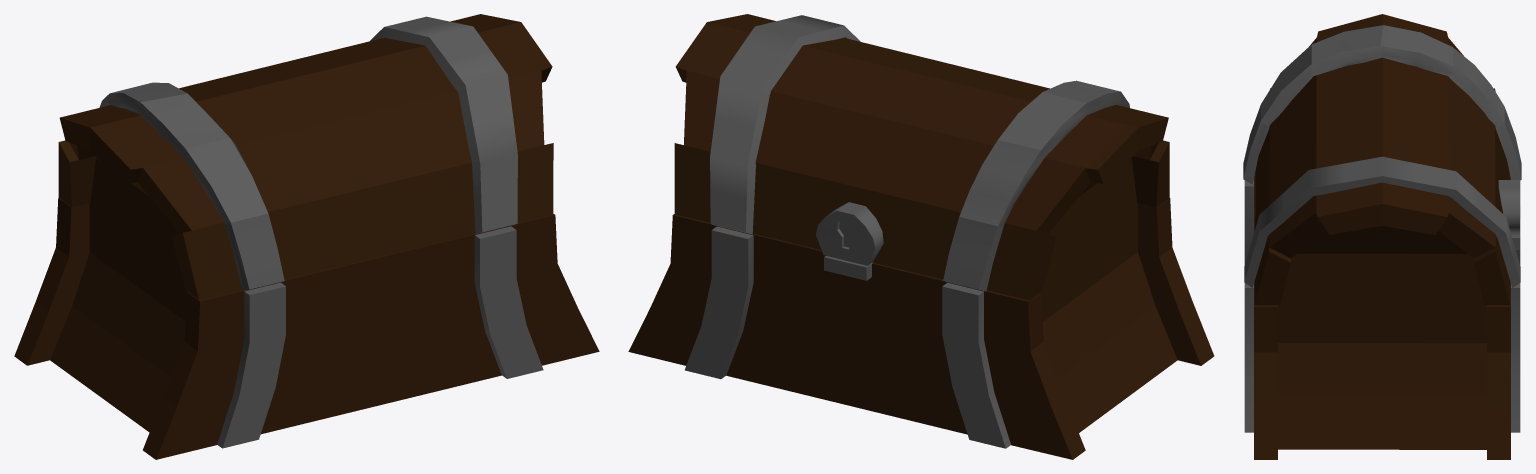
The model's file is HitChest_LowPoly.fbx.
3 views of the same model, side by side, from view 1: azimuth 30°, elevation 25°; view 2: azimuth 150°, elevation 25°; view 3: azimuth 270°, elevation 25° (orthographic). The views are drawn at different scales.
Visible parts, largest first — view 1: SM_ChestTop_low, SM_ChestBack_low, SM_ChestSideBottom_R_low, SM_MetalBotomTop_R_low, SM_MetalBotomTop_L_low, SM_MetalBotomBack_R_low, SM_MetalBotomBack_L_low, SM_ChestFront_low, SM_ChestSideTop_R_low; view 2: SM_ChestTop_low, SM_ChestFront_low, SM_ChestSideBottom_R_low, SM_MetalBotomTop_R_low, SM_MetalBotomTop_L_low, SM_MetalBotomFront_R_low, SM_MetalBotomFront_L_low, SM_ChestBack_low, SM_ChestSideTop_R_low, SM_LockTop_low, SM_LockBottom_low; view 3: SM_ChestTop_low, SM_ChestSideBottom_L_low, SM_ChestSideTop_L_low, SM_MetalBotomTop_R_low, SM_MetalBotomTop_L_low, SM_ChestBack_low, SM_ChestFront_low, SM_MetalBotomBack_L_low, SM_MetalBotomFront_L_low, SM_LockTop_low, SM_MetalBotomBack_R_low.
Boxes of the visible parts, x1=… form: SM_ChestTop_low: x1=58, y1=14, x2=553, y2=300; SM_ChestBack_low: x1=143, y1=214, x2=599, y2=459; SM_ChestSideBottom_R_low: x1=50, y1=203, x2=186, y2=432; SM_MetalBotomTop_R_low: x1=99, y1=82, x2=284, y2=291; SM_MetalBotomTop_L_low: x1=370, y1=16, x2=517, y2=234; SM_MetalBotomBack_R_low: x1=217, y1=282, x2=285, y2=448; SM_MetalBotomBack_L_low: x1=474, y1=226, x2=543, y2=378; SM_ChestFront_low: x1=14, y1=197, x2=89, y2=365; SM_ChestSideTop_R_low: x1=90, y1=156, x2=179, y2=267; SM_ChestTop_low: x1=674, y1=14, x2=1169, y2=300; SM_ChestFront_low: x1=628, y1=214, x2=1085, y2=459; SM_ChestSideBottom_R_low: x1=1041, y1=203, x2=1177, y2=432; SM_MetalBotomTop_R_low: x1=943, y1=80, x2=1129, y2=291; SM_MetalBotomTop_L_low: x1=710, y1=15, x2=860, y2=234; SM_MetalBotomFront_R_low: x1=942, y1=282, x2=1010, y2=448; SM_MetalBotomFront_L_low: x1=685, y1=226, x2=753, y2=379; SM_ChestBack_low: x1=1138, y1=197, x2=1214, y2=365; SM_ChestSideTop_R_low: x1=1048, y1=157, x2=1136, y2=268; SM_LockTop_low: x1=815, y1=202, x2=883, y2=265; SM_LockBottom_low: x1=824, y1=256, x2=872, y2=280; SM_ChestTop_low: x1=1254, y1=14, x2=1510, y2=305; SM_ChestSideBottom_L_low: x1=1278, y1=298, x2=1486, y2=449; SM_ChestSideTop_L_low: x1=1282, y1=226, x2=1482, y2=298; SM_MetalBotomTop_R_low: x1=1243, y1=25, x2=1521, y2=184; SM_MetalBotomTop_L_low: x1=1244, y1=156, x2=1520, y2=287; SM_ChestBack_low: x1=1254, y1=173, x2=1277, y2=459; SM_ChestFront_low: x1=1487, y1=173, x2=1510, y2=459; SM_MetalBotomBack_L_low: x1=1244, y1=283, x2=1253, y2=432; SM_MetalBotomFront_L_low: x1=1511, y1=283, x2=1520, y2=432; SM_LockTop_low: x1=1498, y1=180, x2=1520, y2=236; SM_MetalBotomBack_R_low: x1=1244, y1=179, x2=1253, y2=264.
Bounding box in the file's own units: 246 × 155 × 148.
